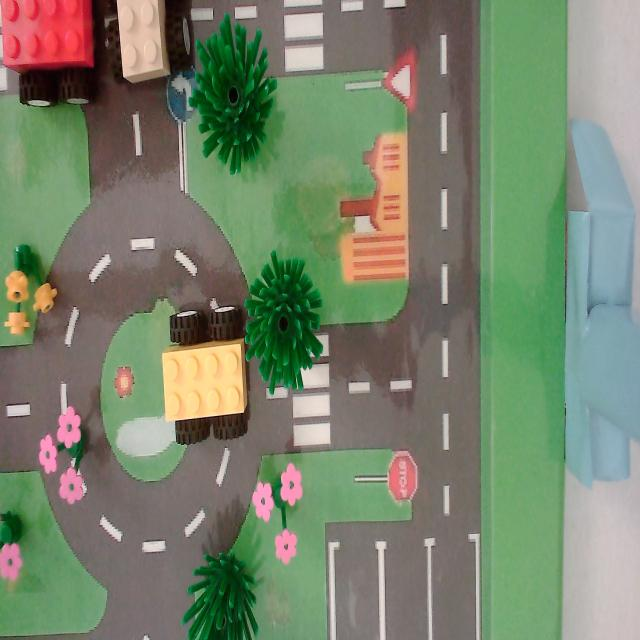Car: (143, 278, 261, 464), (1, 0, 95, 119), (108, 0, 200, 112)
Flower: (20, 386, 113, 500), (247, 445, 320, 574), (0, 230, 72, 335), (0, 497, 37, 588)
Tree: (192, 15, 290, 181), (241, 249, 337, 401), (168, 526, 262, 640)
